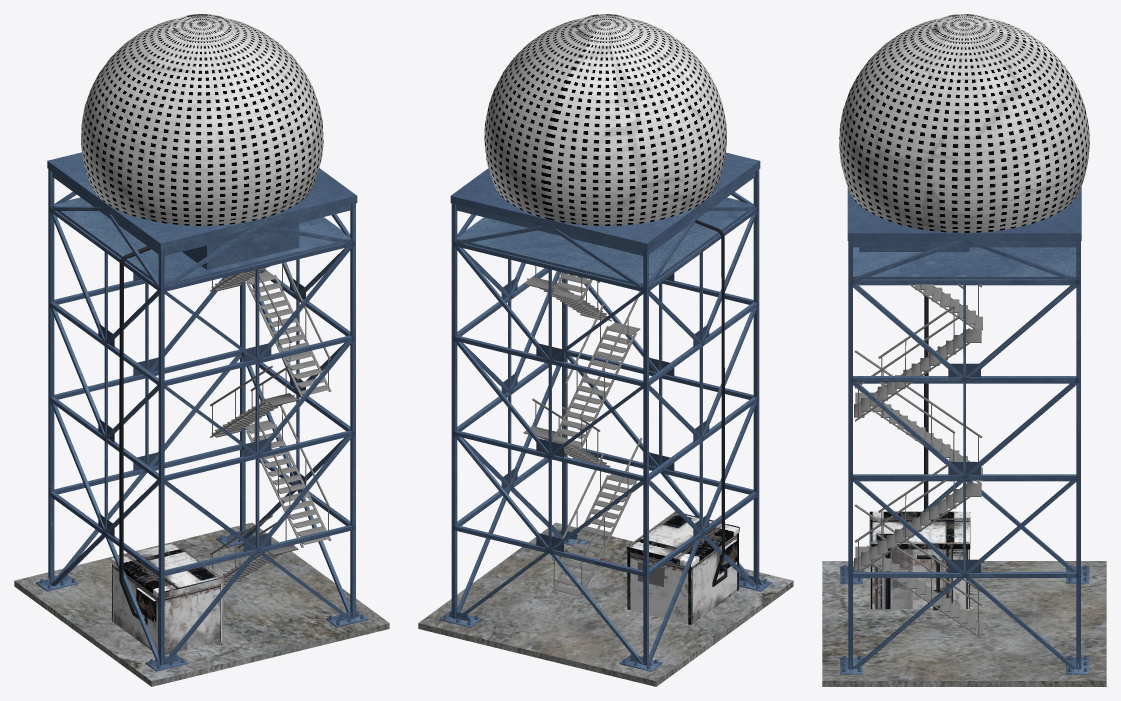
The model's file is Radar.obj.
3 renders of one model, left to right at view 1: azimuth 30°, elevation 25°; view 2: azimuth 150°, elevation 25°; view 3: azimuth 270°, elevation 25°, orthographic. The views are drawn at different scales.
Visible parts, largest first — view 1: object 2; view 2: object 2; view 3: object 2.
Boxes of the visible parts, left/top/right/bottom form: object 2: left=14, top=14, right=389, bottom=686; object 2: left=418, top=14, right=793, bottom=686; object 2: left=822, top=14, right=1106, bottom=686.
Size of the model in its own units: 14.52 by 34.02 by 14.52.
